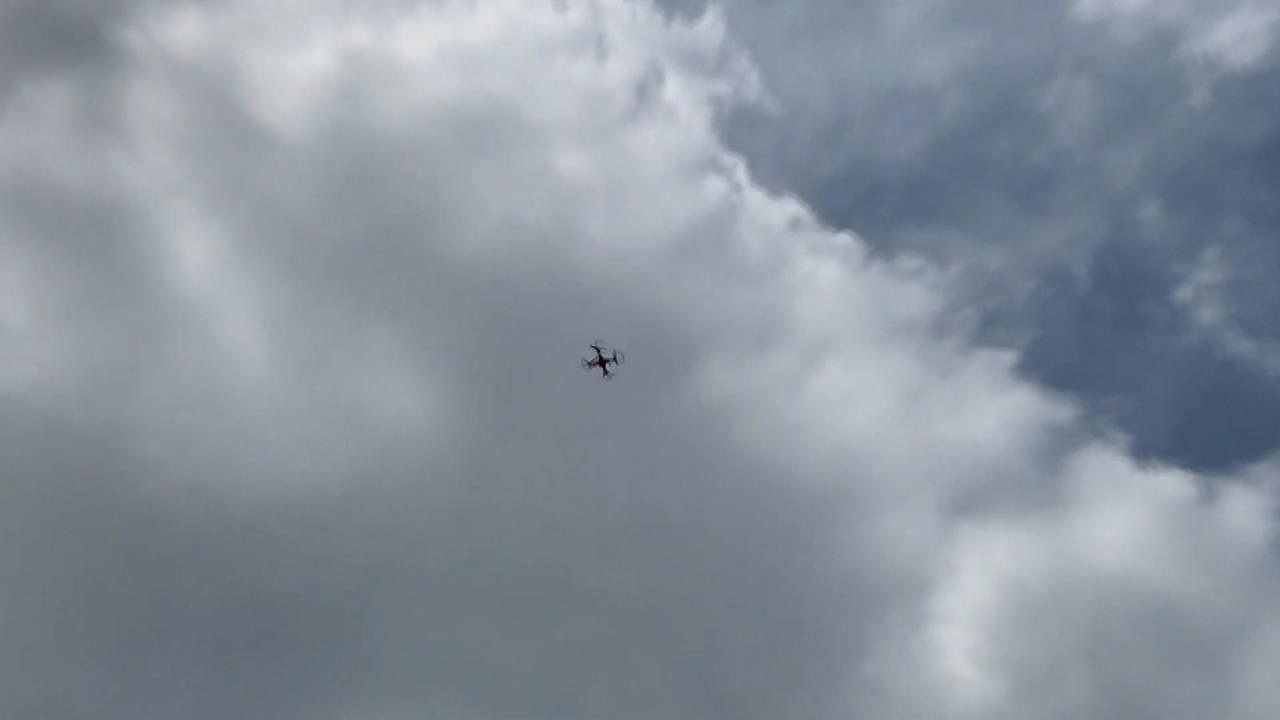Drone: (567, 330, 630, 386)
